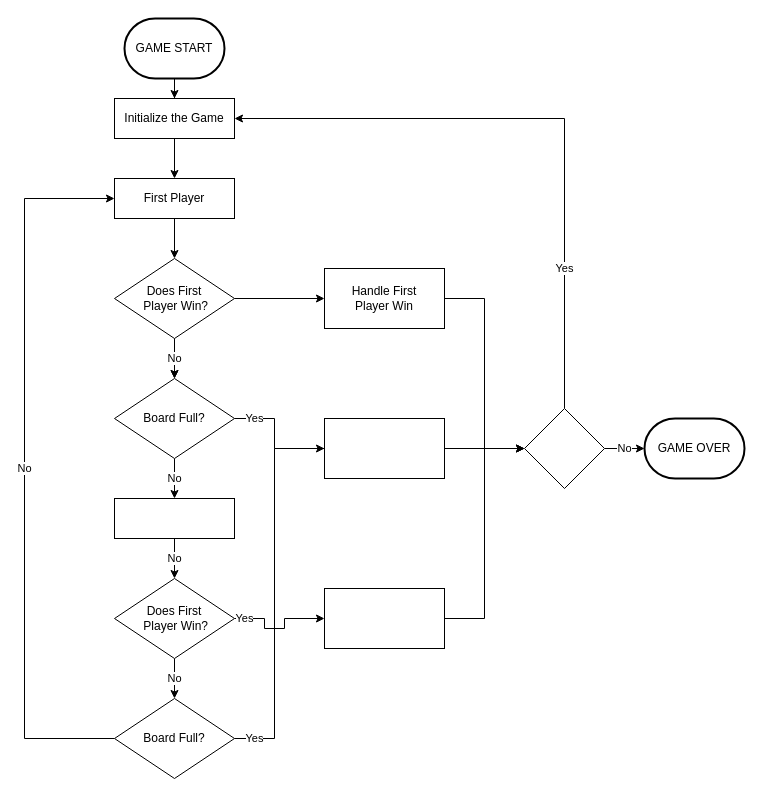
The diagram is 763 pixels wide and 796 high, and some of its shapes have lost their labels. Each missing label, with the centre of its shape:
Another Round?: (564,448)
Handle Draw Game: (384,448)
Handle Second Player Win: (384,618)
Second Player: (174,518)
